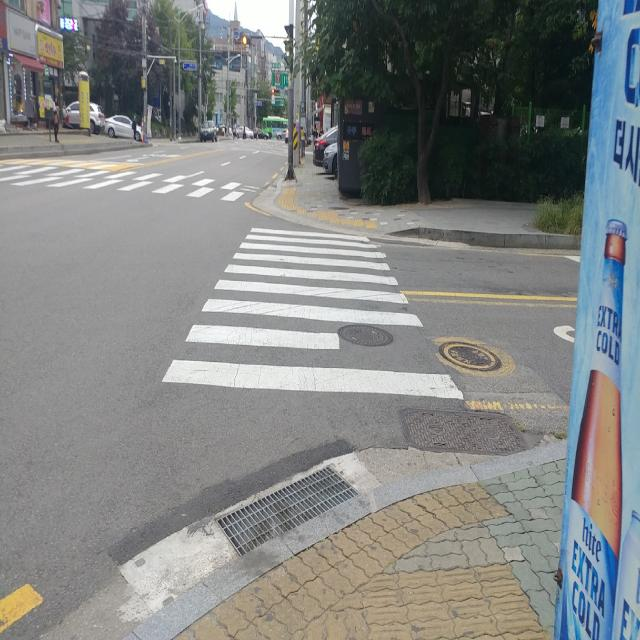횡단보도: (161, 226, 465, 402), (0, 155, 246, 205)
